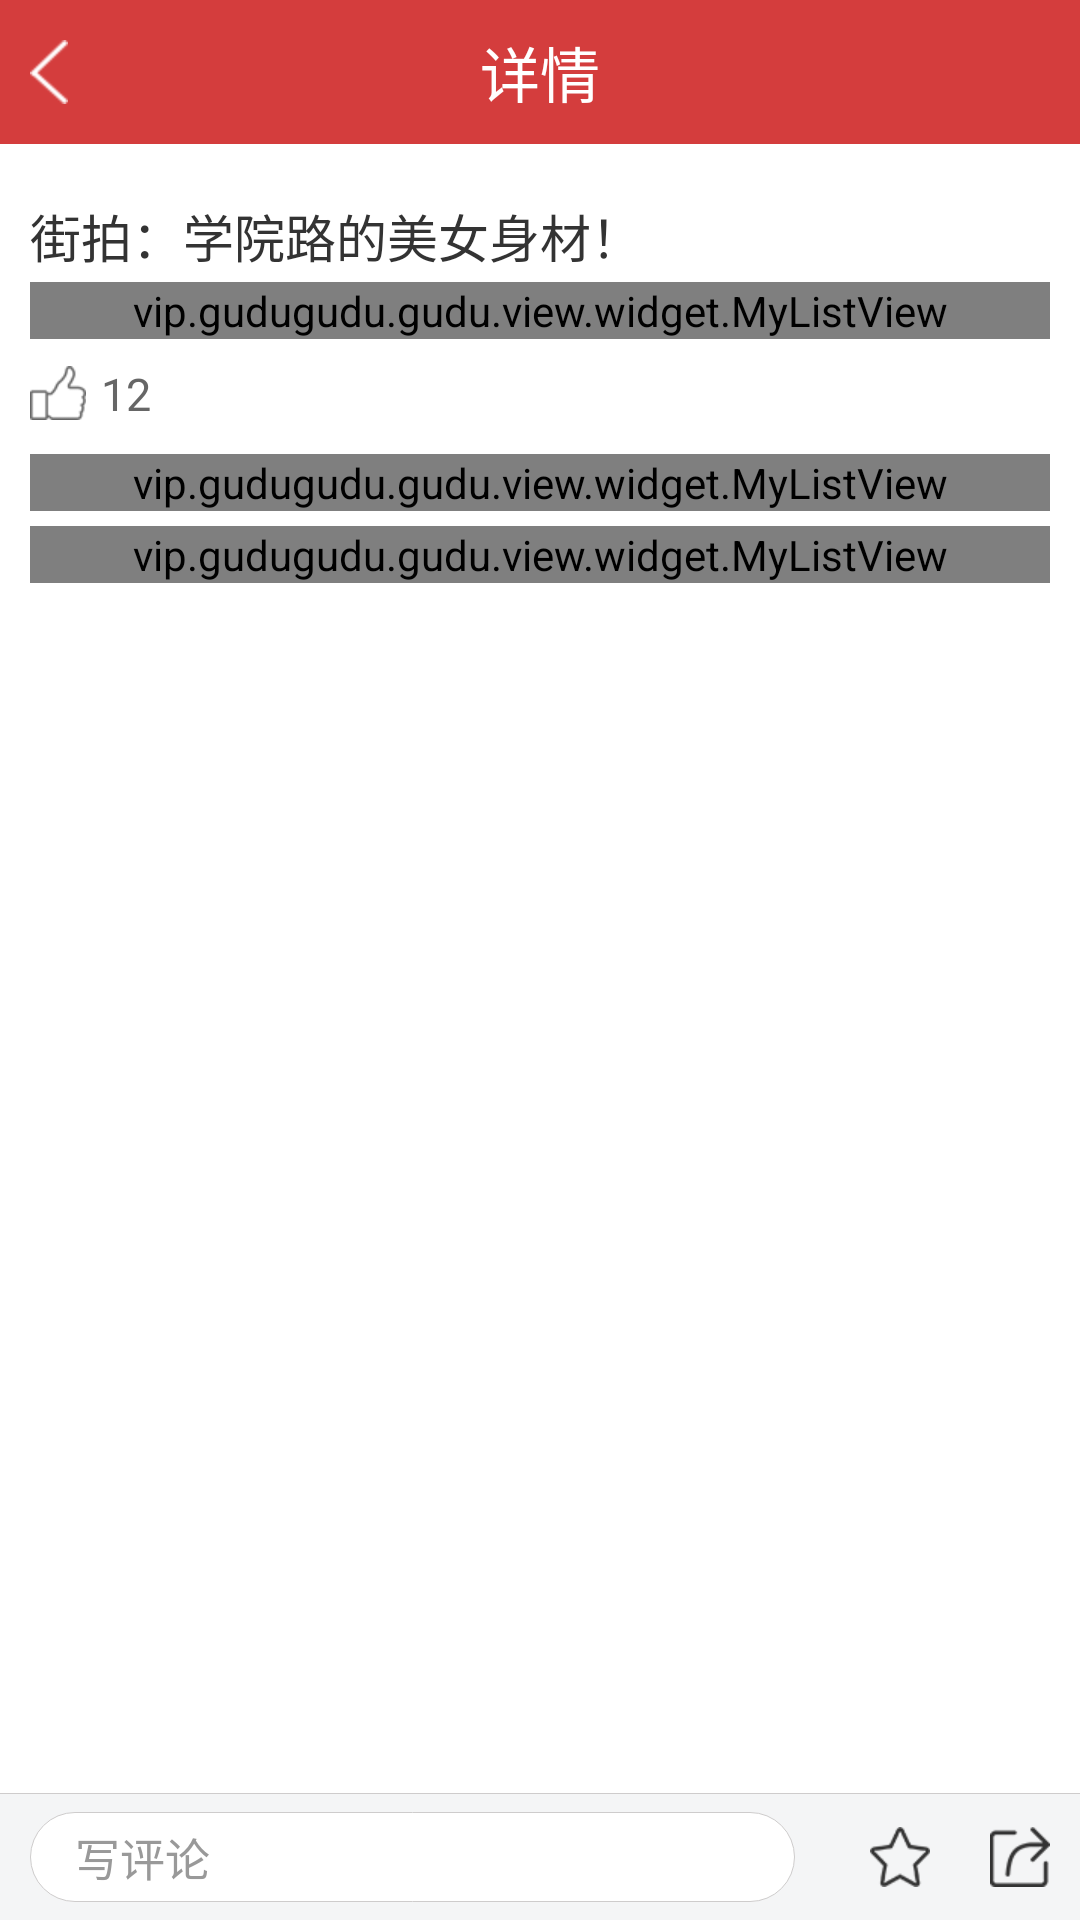

Icon click points for this 1080 x 1920 phone screenshot, format point (x, y):
collect: point (900, 1857)
share: point (1020, 1857)
